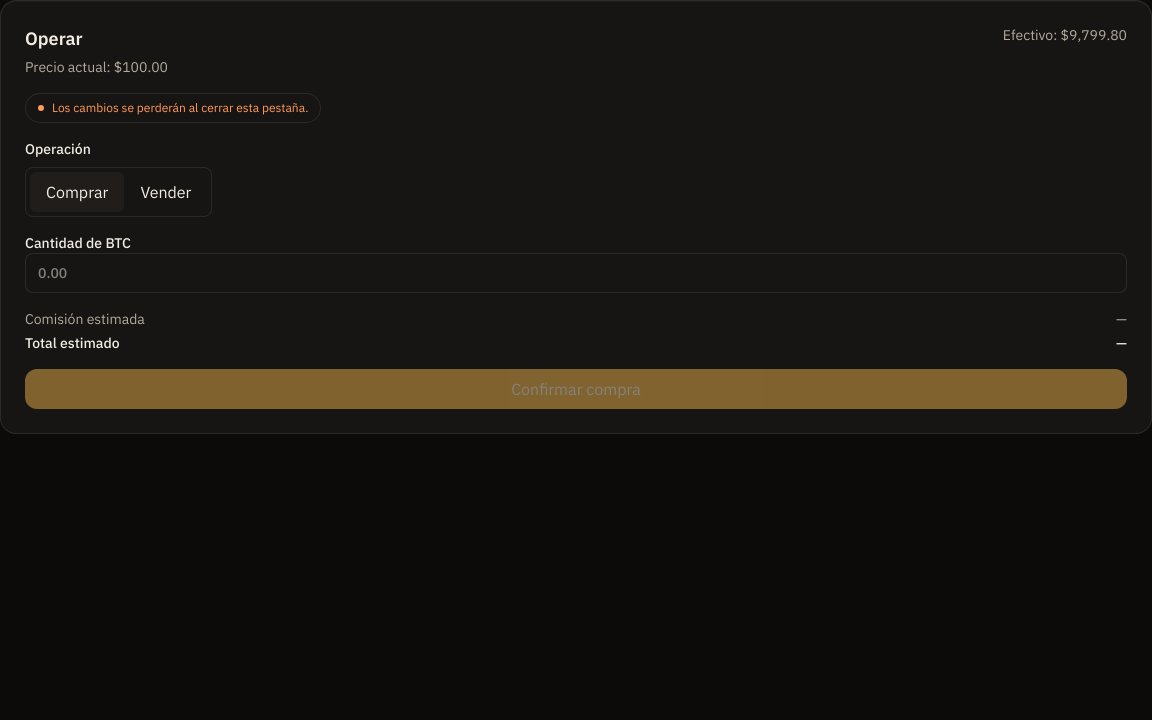
Scenario: QuickTrade › previews and submits a sale, showing available position and proceeds
Click the button "Vender": (166, 192) [124,172,208,212]
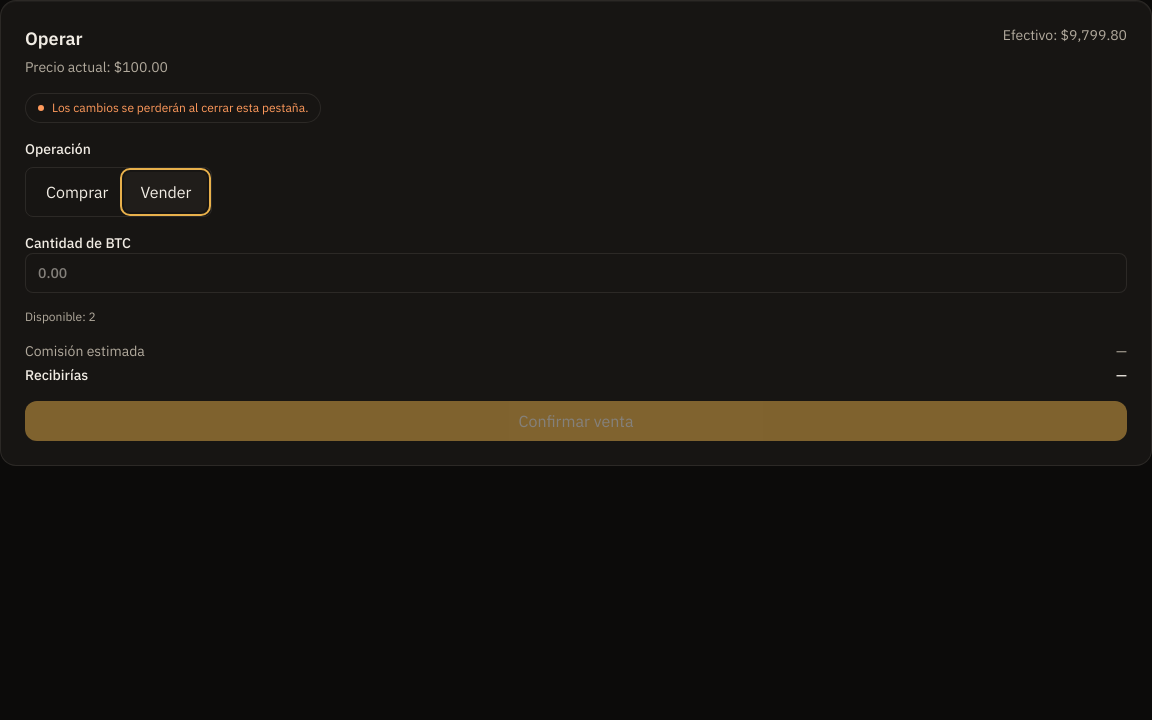
Now the text "Disponible: 2" is shown, box [25,309,96,324]
In the field labelled "Cantidad de BTC": (576, 273) [25,253,1127,293], type "1"
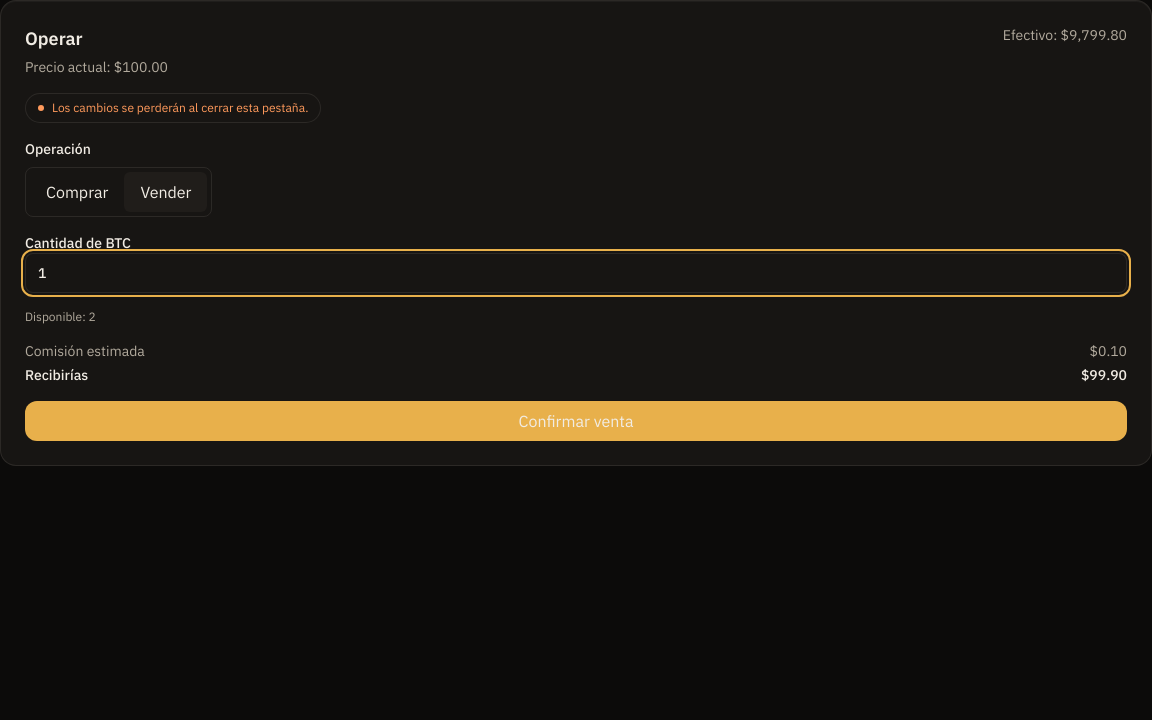
Now the text "Recibirías" is shown, box [25,365,88,385]
Now the text "$0.10" is shown, box [1090,341,1127,361]
Now the text "$99.90" is shown, box [1081,365,1127,385]
Click the button "Confirmar venta": (576, 421) [25,401,1127,441]
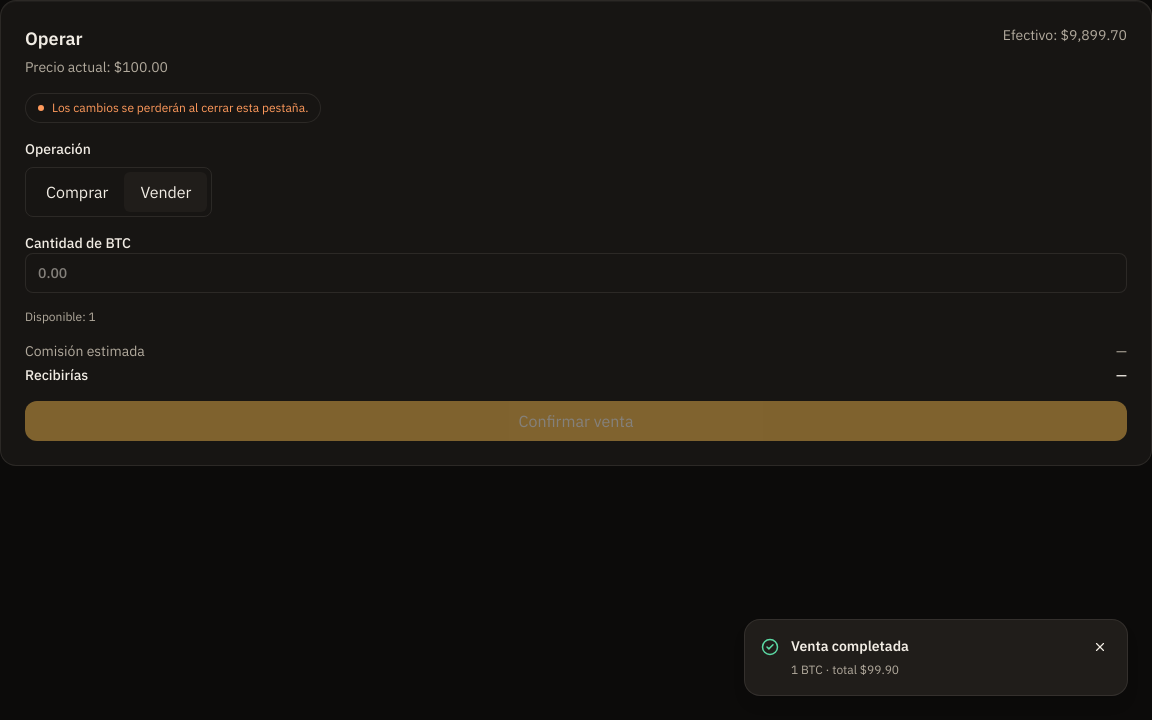
Now the text "Venta completada" is shown, box [791,636,909,654]
Now the text "1 BTC · total $99.90" is shown, box [791,662,899,676]
Now the text "Disponible: 1" is shown, box [25,309,96,324]
